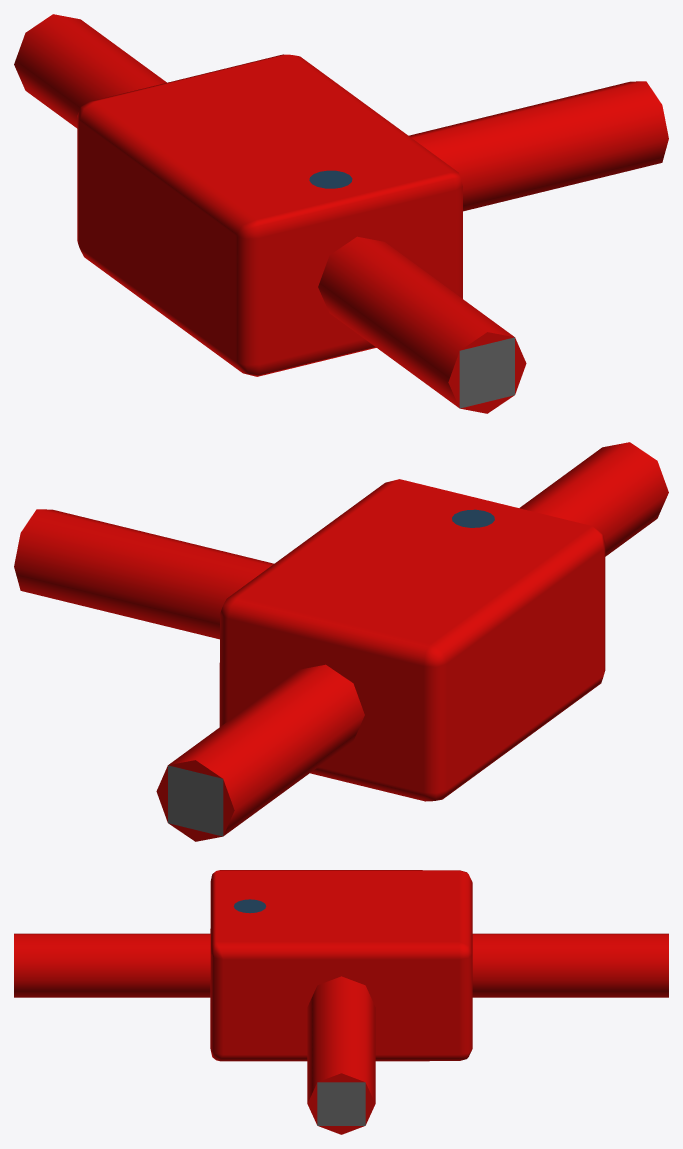
The model's file is SeriesCableJunctionBasic.fbx.
The picture shows the model from 3 angles, top to bottom: view 1: azimuth 30°, elevation 25°; view 2: azimuth 150°, elevation 25°; view 3: azimuth 270°, elevation 25°; orthographic projection. The views are drawn at different scales.
Parts seen in each view (by area): view 1: JunctionBox, Basic Cable.001|Cable|Dupli|, Basic Cable.002|Cable|Dupli|; view 2: JunctionBox, Basic Cable.001|Cable|Dupli|, Basic Cable.002|Cable|Dupli|; view 3: JunctionBox, Basic Cable.001|Cable|Dupli|, Basic Cable.002|Cable|Dupli|.
Part boxes in pixels (bbox=[...]): JunctionBox: bbox=[77, 54, 462, 376]; Basic Cable.001|Cable|Dupli|: bbox=[14, 14, 526, 413]; Basic Cable.002|Cable|Dupli|: bbox=[409, 81, 668, 211]; JunctionBox: bbox=[219, 479, 605, 801]; Basic Cable.001|Cable|Dupli|: bbox=[156, 442, 668, 841]; Basic Cable.002|Cable|Dupli|: bbox=[14, 509, 273, 639]; JunctionBox: bbox=[210, 870, 472, 1061]; Basic Cable.001|Cable|Dupli|: bbox=[14, 933, 668, 997]; Basic Cable.002|Cable|Dupli|: bbox=[307, 976, 375, 1134].
Size of the model in its own units: 32.5 by 10 by 50.
